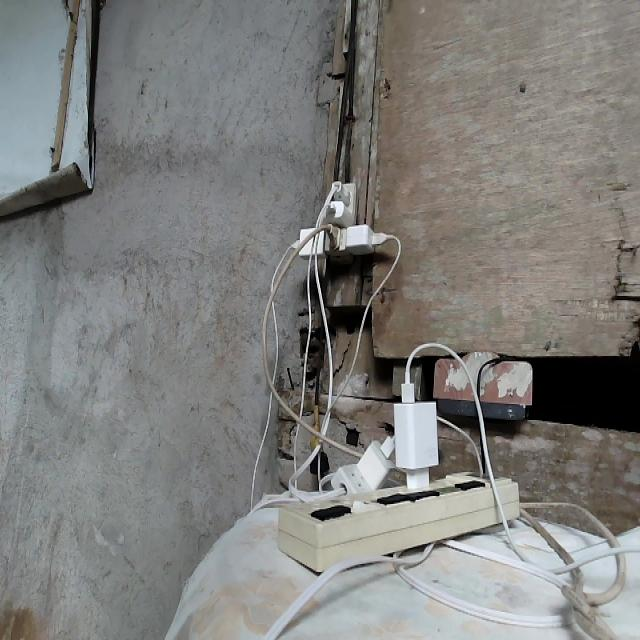-: (292, 180, 383, 259)
